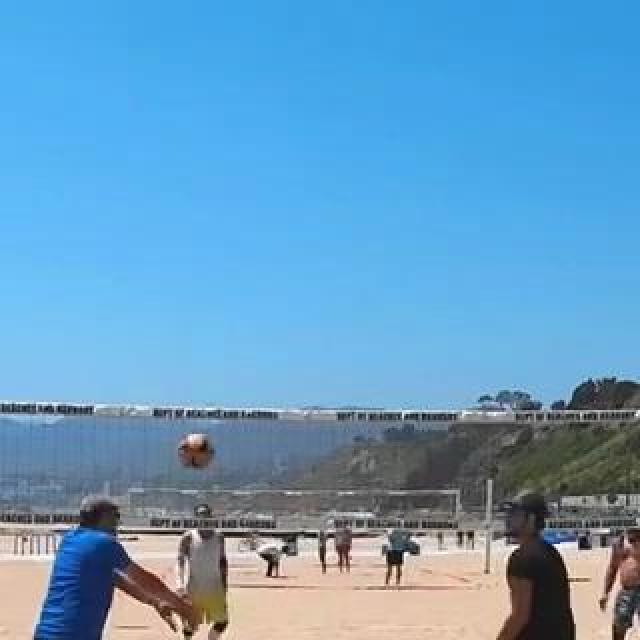volleyball: (178, 435, 214, 469)
